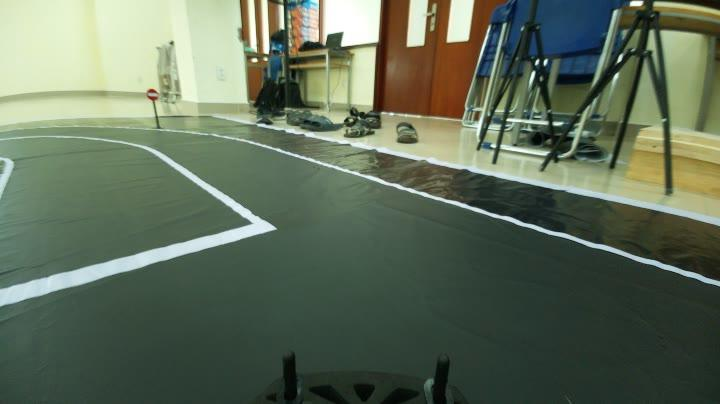no_entry: (144, 82, 166, 102)
